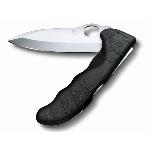Pisau: (6, 21, 142, 114)
